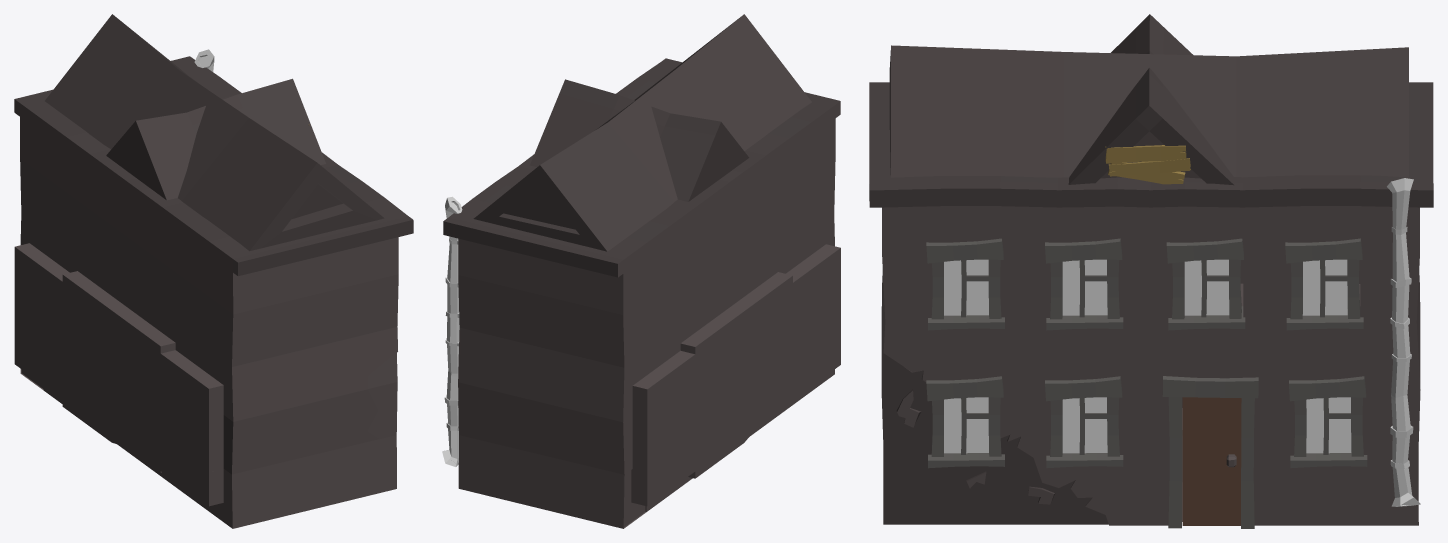
The model's file is house3.fbx.
The picture shows the model from 3 angles, left to right: view 1: azimuth 30°, elevation 25°; view 2: azimuth 150°, elevation 25°; view 3: azimuth 270°, elevation 25°; orthographic projection. The views are drawn at different scales.
Visible parts, largest first — view 1: Cylinder; view 2: Cylinder; view 3: Cylinder.
Boxes of the visible parts, box(x1,y1,x2,y2) form: Cylinder: box(14, 14, 413, 528); Cylinder: box(442, 14, 840, 528); Cylinder: box(869, 14, 1433, 528).
Size of the model in its own units: 558 by 902 by 1065.
